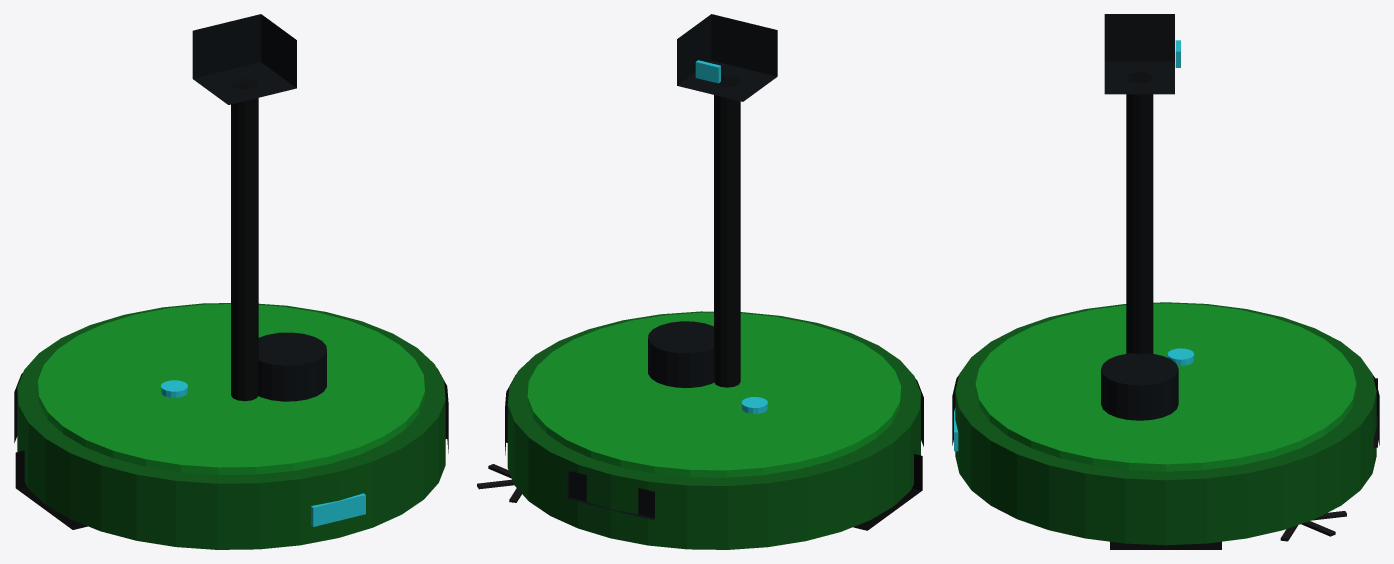
Rendered from robot_green_h060.obj.
3 views of the same model, side by side, from view 1: azimuth 30°, elevation 25°; view 2: azimuth 150°, elevation 25°; view 3: azimuth 270°, elevation 25° (orthographic). The views are drawn at different scales.
Parts seen in each view (by area): view 1: low_poly_robot_vacuum; view 2: low_poly_robot_vacuum; view 3: low_poly_robot_vacuum.
Boxes of the visible parts, x1,y1,x2,y2 form: low_poly_robot_vacuum: (14, 14, 448, 549); low_poly_robot_vacuum: (477, 14, 923, 549); low_poly_robot_vacuum: (952, 14, 1379, 549).
Bounding box in the file's own units: 0.572 × 0.635 × 0.572.
